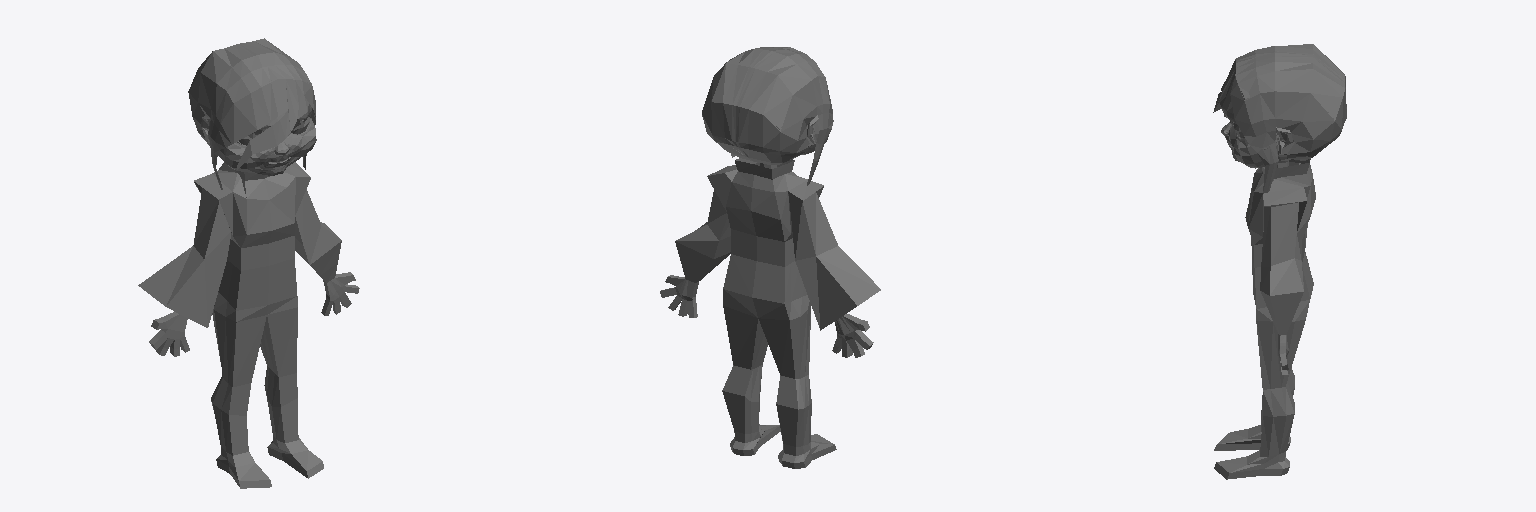
Rendered from all.obj.
3 renders of one model, left to right at view 1: azimuth 30°, elevation 25°; view 2: azimuth 150°, elevation 25°; view 3: azimuth 270°, elevation 25°, orthographic.
Visible parts, largest first — view 1: pCube1, hair, head pCylinder8; view 2: pCube1, hair; view 3: pCube1, hair, head pCylinder8.
Boxes of the visible parts, box(x1,y1,x2,y2) form: pCube1: box(138, 162, 359, 488); hair: box(188, 38, 315, 189); head pCylinder8: box(189, 66, 316, 175); pCube1: box(660, 158, 880, 468); hair: box(702, 47, 833, 185); pCube1: box(1214, 159, 1315, 479); hair: box(1213, 44, 1346, 193); head pCylinder8: box(1220, 60, 1337, 168).
Bounding box in the file's own units: 16.13 × 29.89 × 8.92.